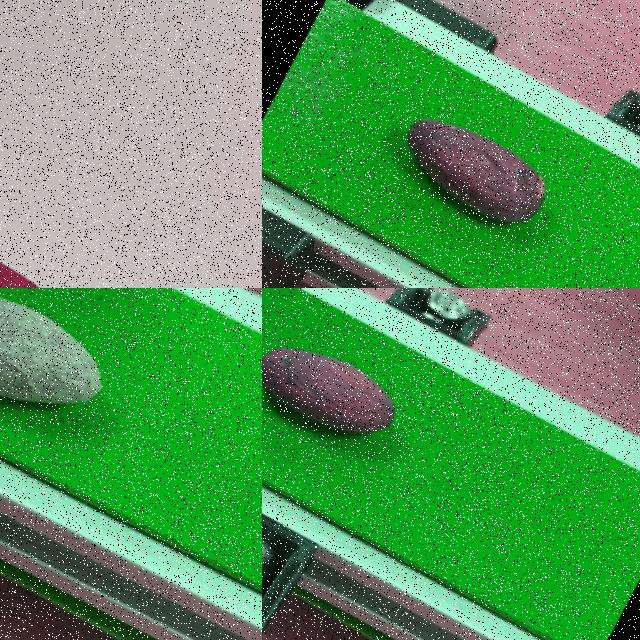Agglomerated_cocoabeans: (0, 288, 202, 508)
Fine_cocoabeans: (302, 47, 639, 287), (262, 288, 493, 539), (0, 111, 221, 287)
